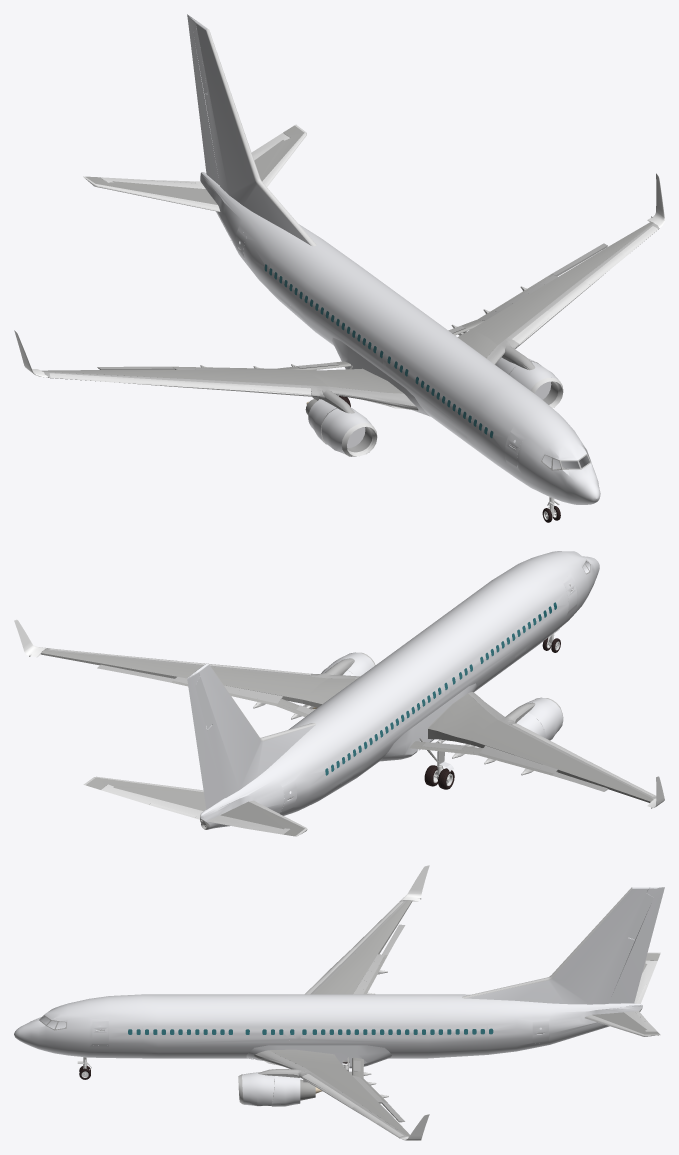
The picture shows the model from 3 angles, top to bottom: view 1: azimuth 30°, elevation 25°; view 2: azimuth 150°, elevation 25°; view 3: azimuth 270°, elevation 25°; orthographic projection. The views are drawn at different scales.
Parts seen in each view (by area): view 1: body; view 2: body, gear; view 3: body.
Boxes of the visible parts, x1,y1,x2,y2 form: body: [14, 14, 664, 519]; body: [14, 551, 664, 836]; gear: [419, 629, 560, 789]; body: [14, 865, 664, 1140].
Bounding box in the file's own units: 35.69 × 12.93 × 39.42.
Materials: 62 (18 with a texture image).
